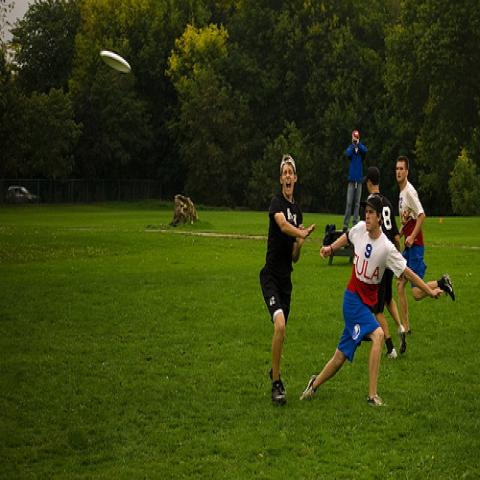car: (6, 187, 37, 203)
